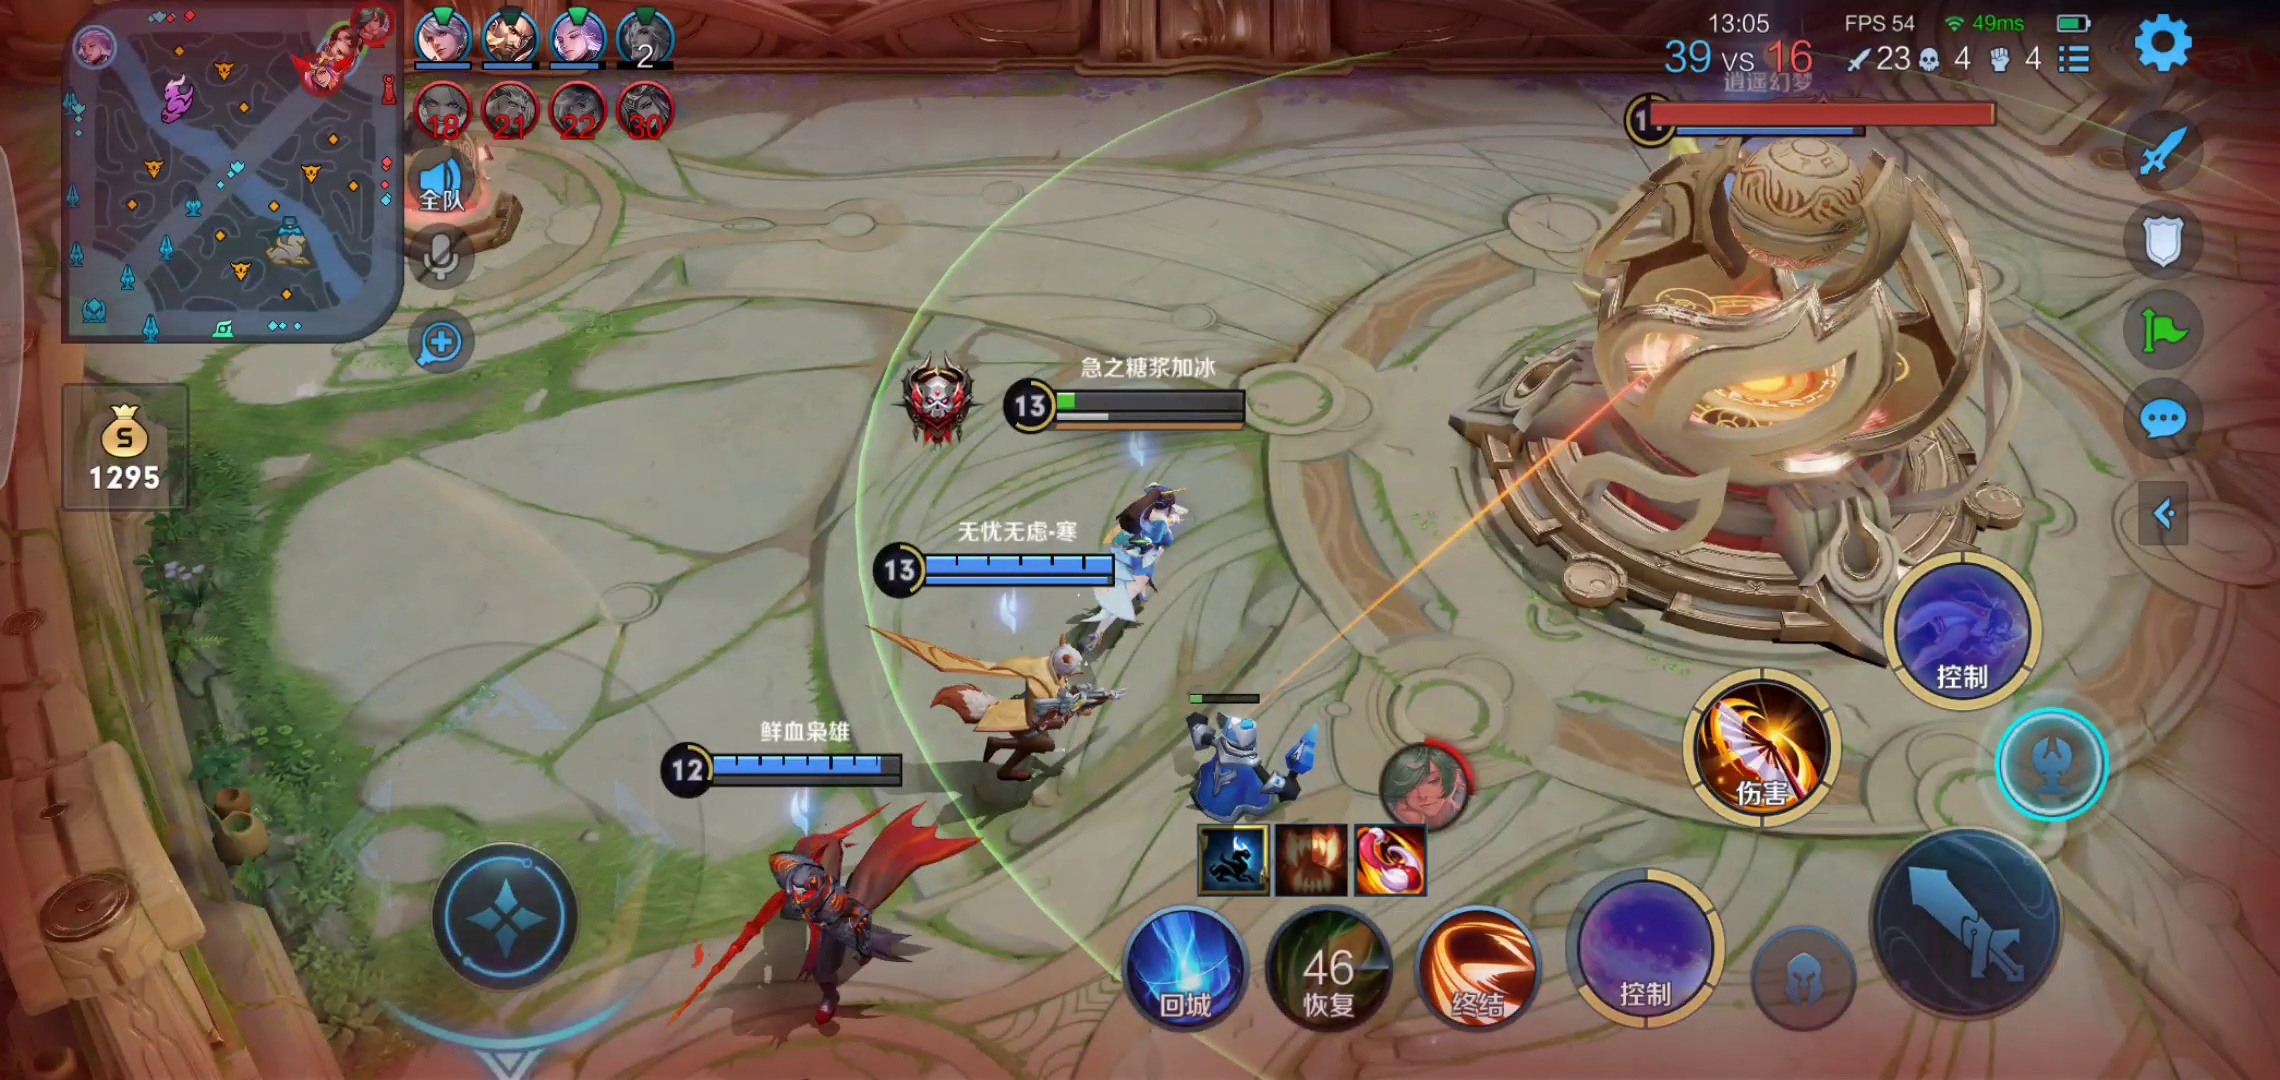crystal: (1466, 131, 2072, 677)
hero: (689, 821, 963, 1044), (867, 629, 1093, 795), (1056, 470, 1189, 645)
soldier: (1165, 692, 1344, 837)
